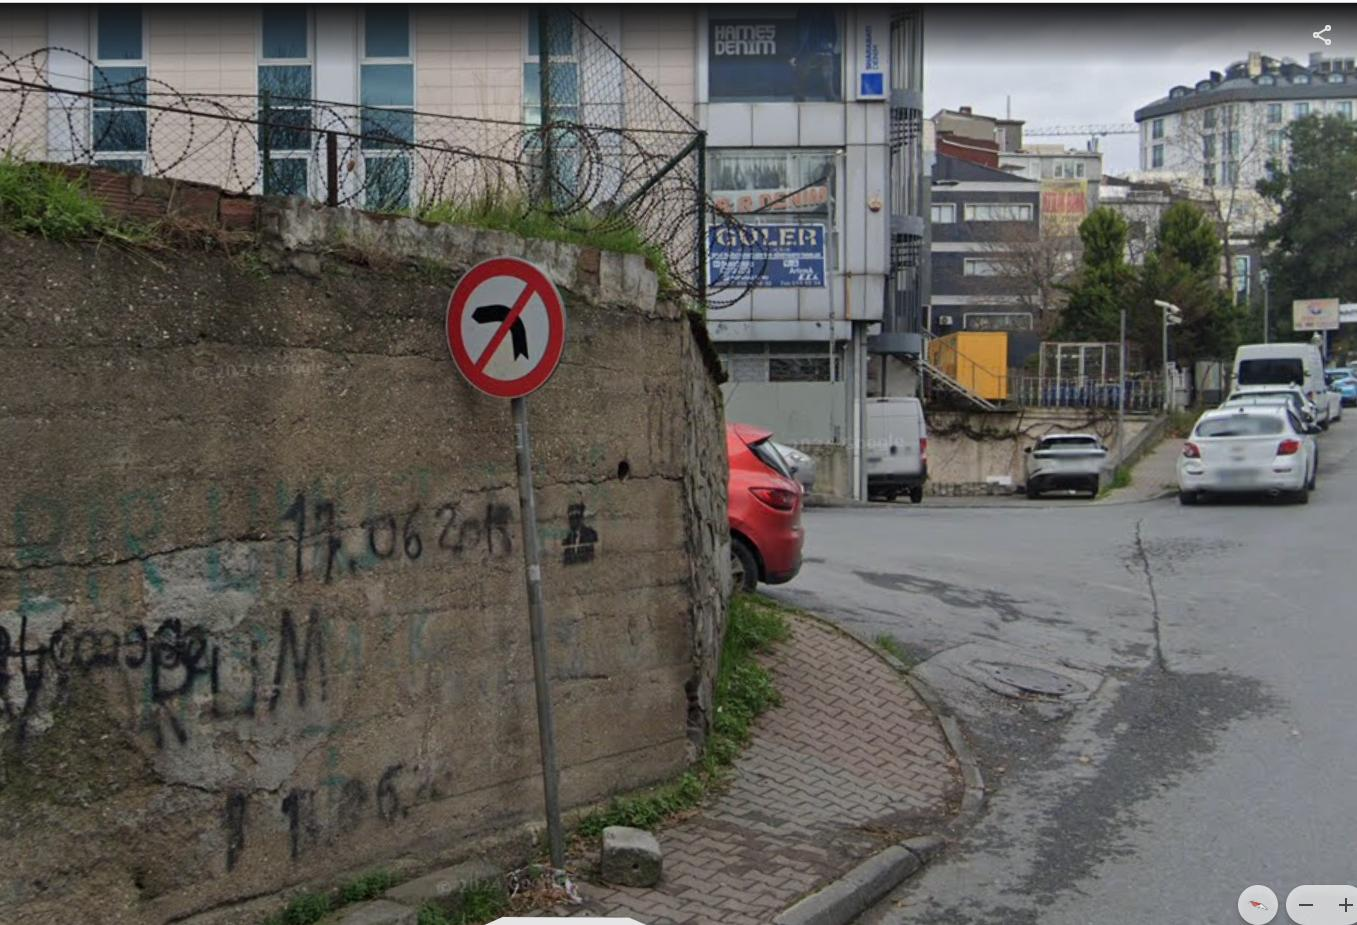leftturnsareforbidden: (451, 264, 560, 395)
